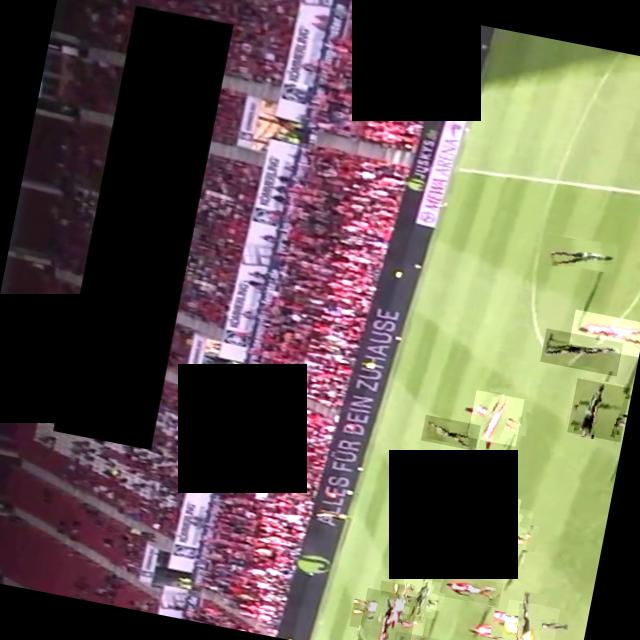referee: (498, 599, 559, 640)
soccer-player: (566, 378, 630, 442), (539, 328, 622, 376), (470, 501, 532, 564), (540, 232, 619, 276), (568, 309, 640, 357), (466, 390, 524, 446), (356, 588, 417, 640), (442, 443, 494, 497), (438, 572, 502, 607), (420, 415, 480, 451), (397, 576, 440, 619), (402, 511, 459, 538), (389, 631, 456, 640)
